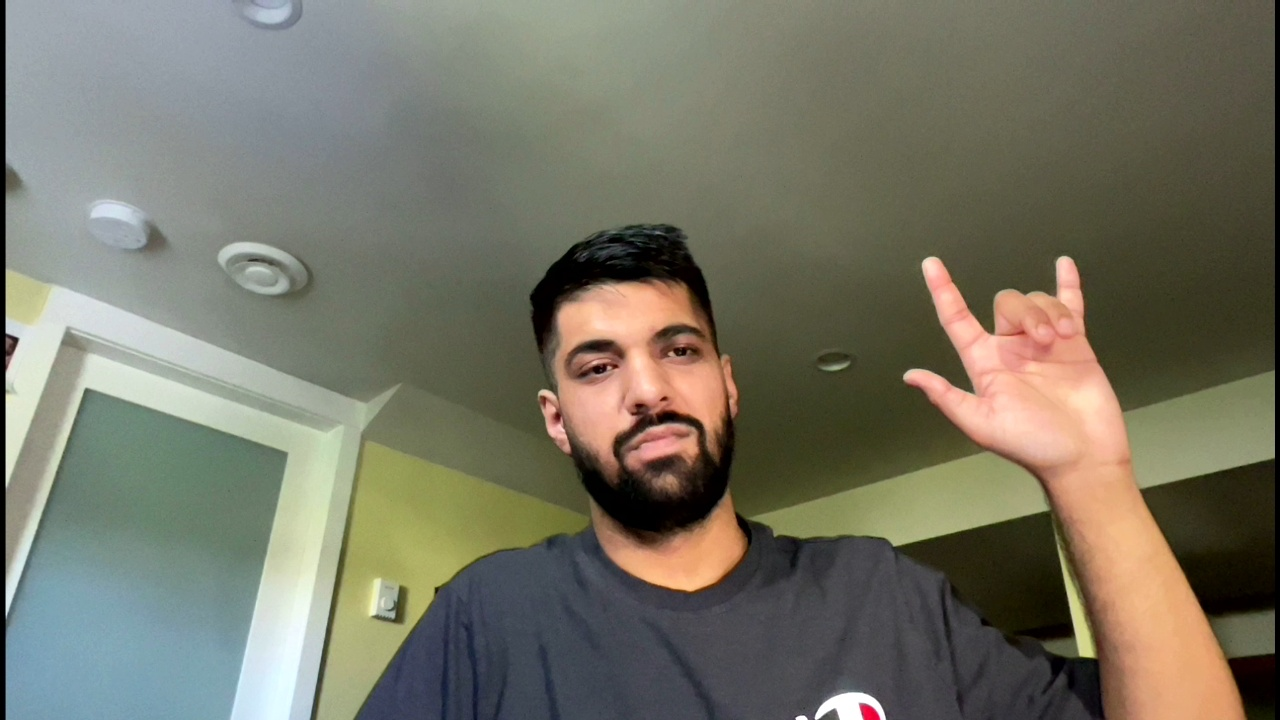HowYouDoing!: (891, 249, 1167, 478)
